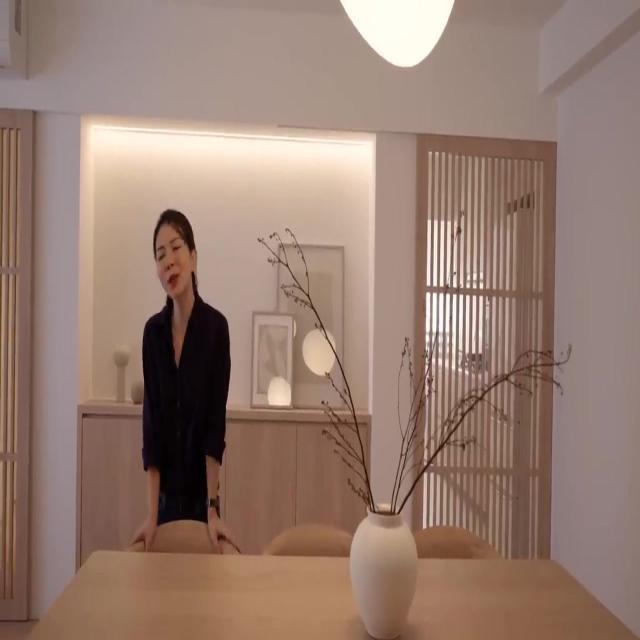door: (414, 134, 556, 558)
obstacle: (27, 550, 638, 638)
person: (130, 208, 242, 554)
